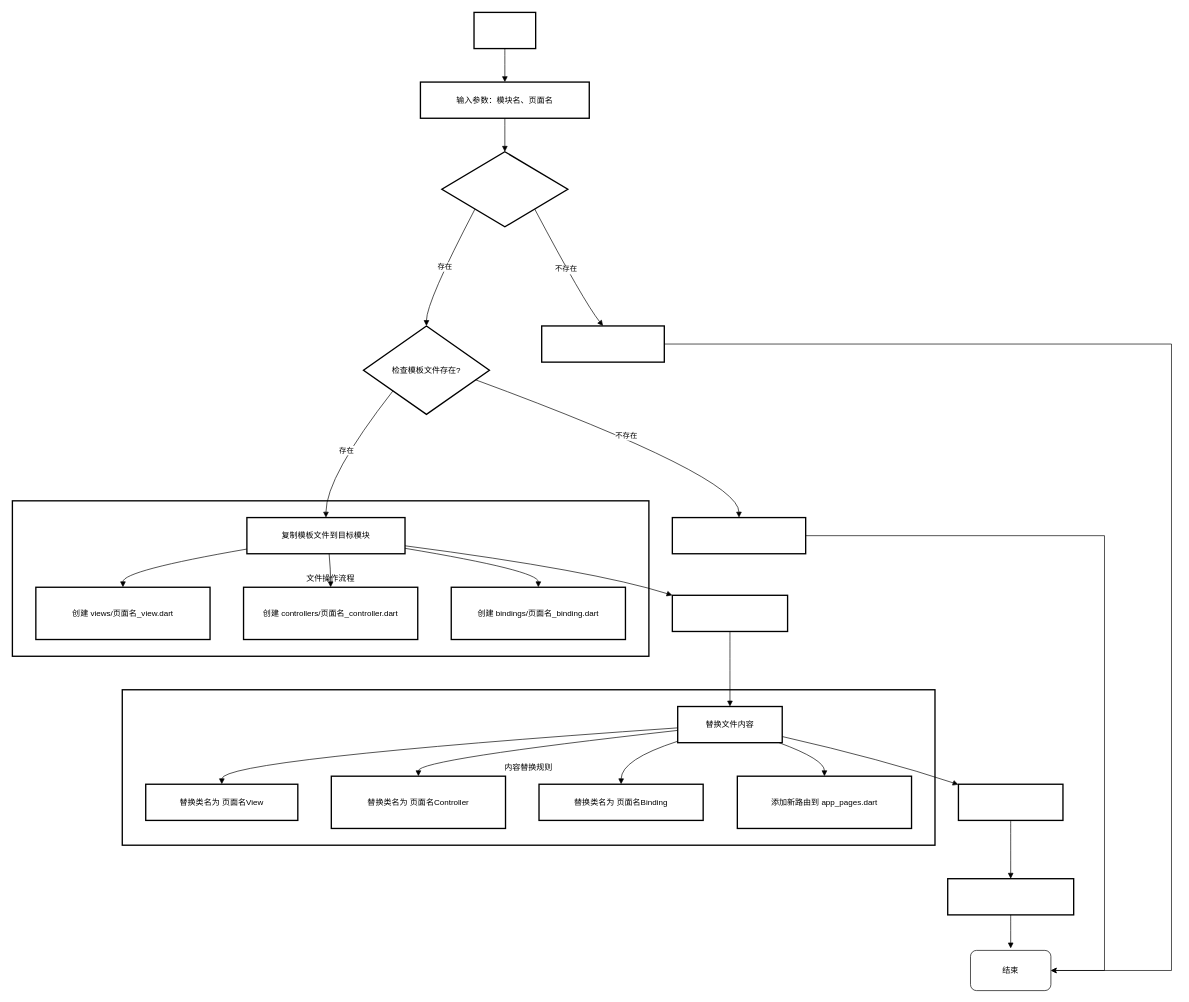
Image size: 1189x1002. Some labels were removed from this diagram. Each missing label, with the centre of its shape:
开始: the point at 504,30
报错: 模块不存在: the point at 603,343
报错: 模板文件缺失: the point at 738,535
更新路由配置: the point at 1010,802
检查模块是否存在?: the point at 504,189
生成单元测试模板: the point at 1010,896
重命名文件结构: the point at 729,613
